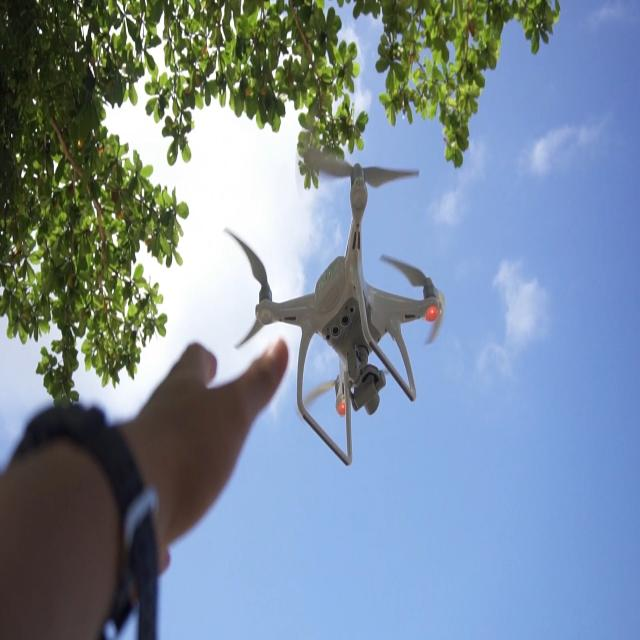Drone: (245, 147, 426, 463)
